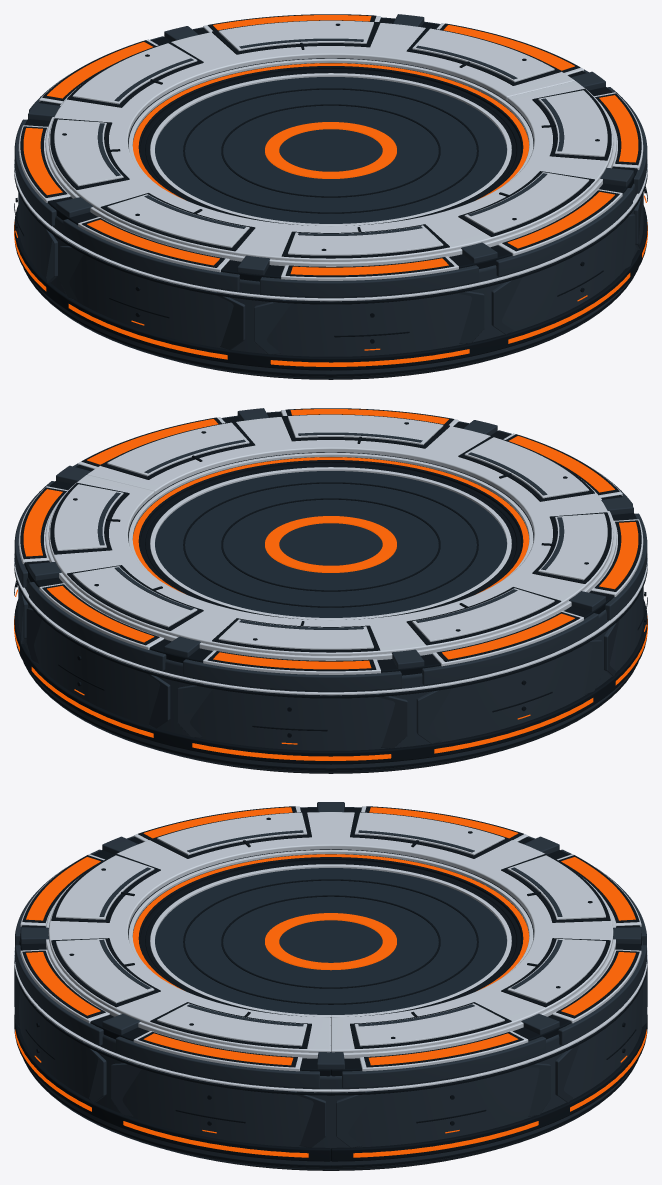
The model's file is Compact.glb.
3 views of the same model, one above another, from view 1: azimuth 30°, elevation 25°; view 2: azimuth 150°, elevation 25°; view 3: azimuth 270°, elevation 25° (orthographic).
Visible parts, largest first — view 1: SM_Puck_Compact_Orange; view 2: SM_Puck_Compact_Orange; view 3: SM_Puck_Compact_Orange.
Boxes of the visible parts, bbox=[...] form: SM_Puck_Compact_Orange: bbox=[14, 14, 647, 379]; SM_Puck_Compact_Orange: bbox=[14, 408, 647, 773]; SM_Puck_Compact_Orange: bbox=[14, 802, 647, 1170].
Size of the model in its own units: 0.7193 by 0.147 by 0.7193.
